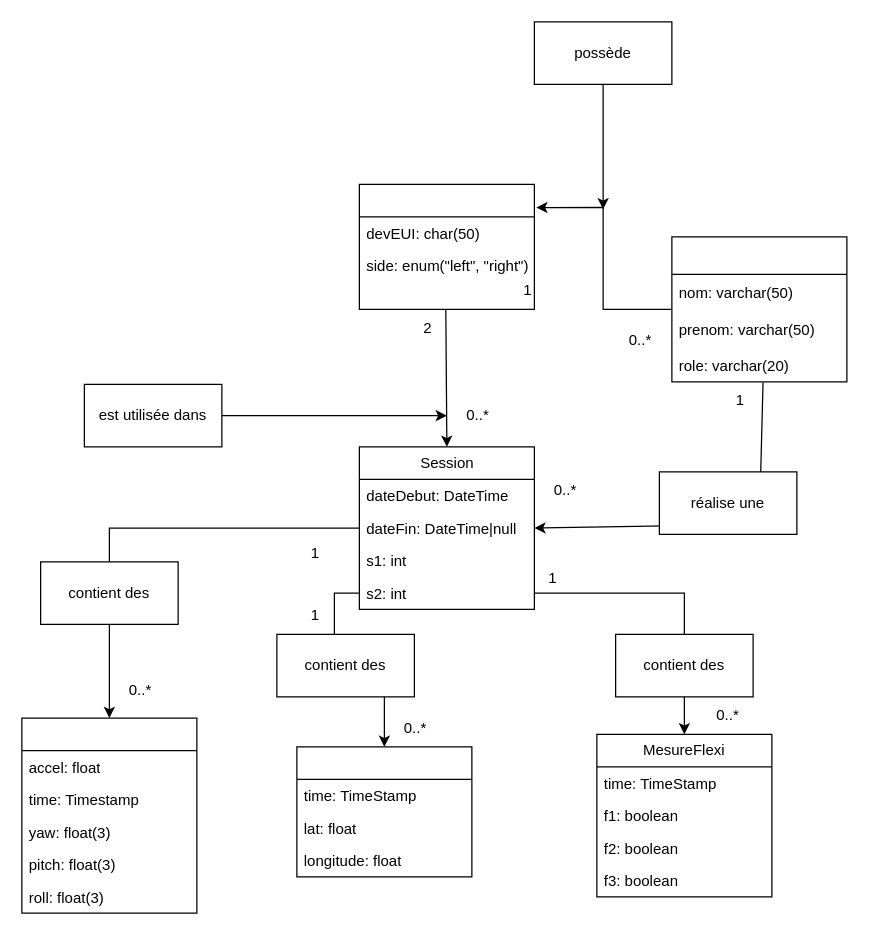
The diagram is 869 pixels wide and 939 high, and some of its shapes have lost their labels. The shapes that lost their labels are listed below. From the top down, each one's box as (x1, y1, x2, y2) in pixels, then its label:
(358, 183, 534, 309): Semelle
(671, 236, 847, 382): Utilisateur
(21, 717, 197, 913): MesureIMU
(296, 746, 472, 877): MesureGPS
